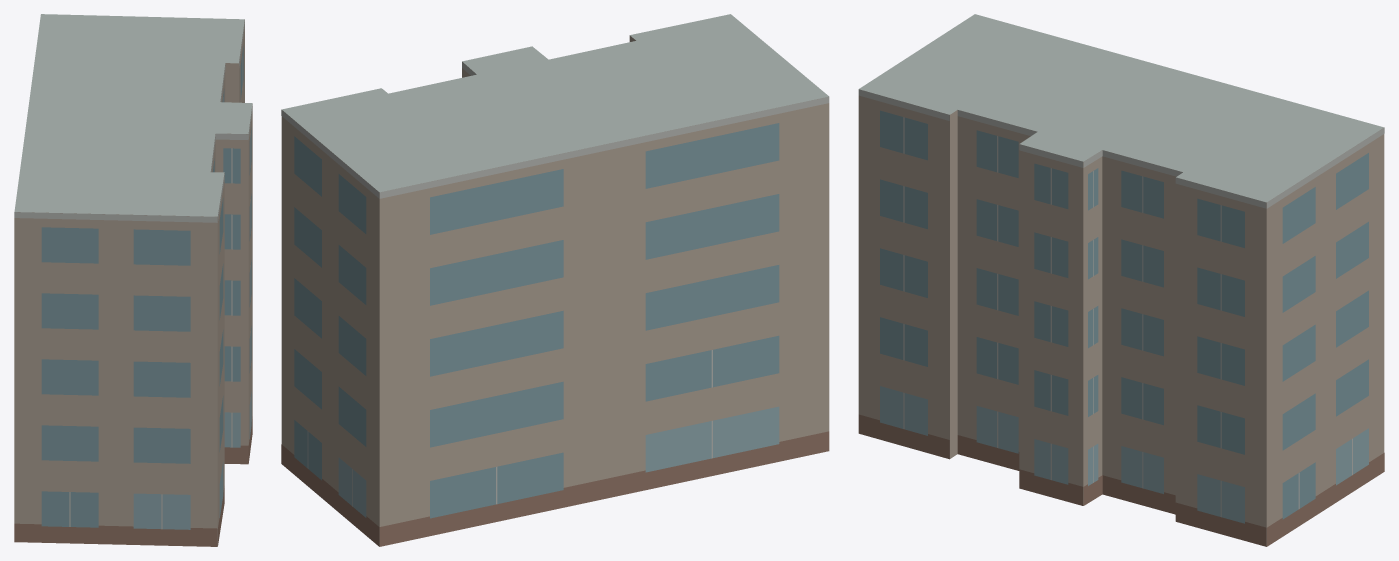
File: survey-upis-32746466.glb
3 renders of one model, left to right at view 1: azimuth 30°, elevation 25°; view 2: azimuth 150°, elevation 25°; view 3: azimuth 270°, elevation 25°, orthographic. The views are drawn at different scales.
Parts seen in each view (by area): view 1: survey-upis-32746466.tmp; view 2: survey-upis-32746466.tmp; view 3: survey-upis-32746466.tmp.
Boxes of the visible parts, x1=… form: survey-upis-32746466.tmp: x1=14, y1=14, x2=252, y2=546; survey-upis-32746466.tmp: x1=281, y1=14, x2=829, y2=546; survey-upis-32746466.tmp: x1=858, y1=14, x2=1384, y2=546.
Size of the model in its own units: 15.62 by 13.3 by 18.41.
